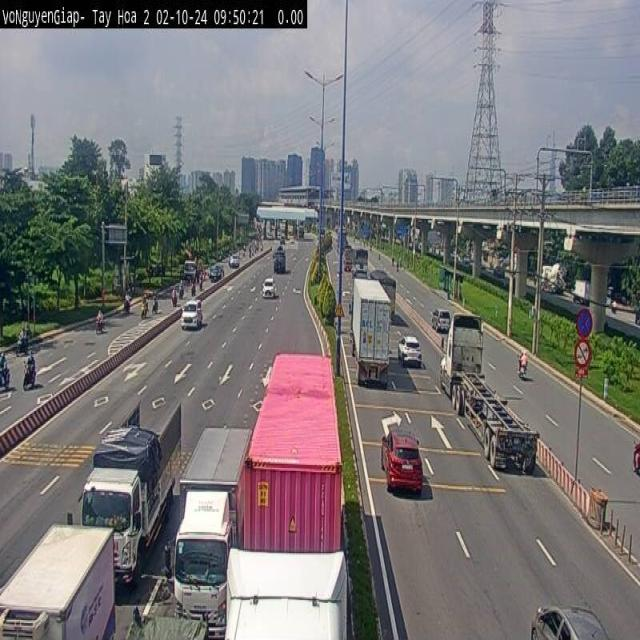car: (530, 602, 610, 638), (380, 429, 422, 495), (398, 334, 422, 367), (262, 276, 276, 297)
container-truck: (222, 347, 355, 640), (439, 312, 549, 483), (351, 276, 392, 387)
truck: (76, 392, 182, 586), (176, 412, 251, 634), (0, 516, 119, 640)
